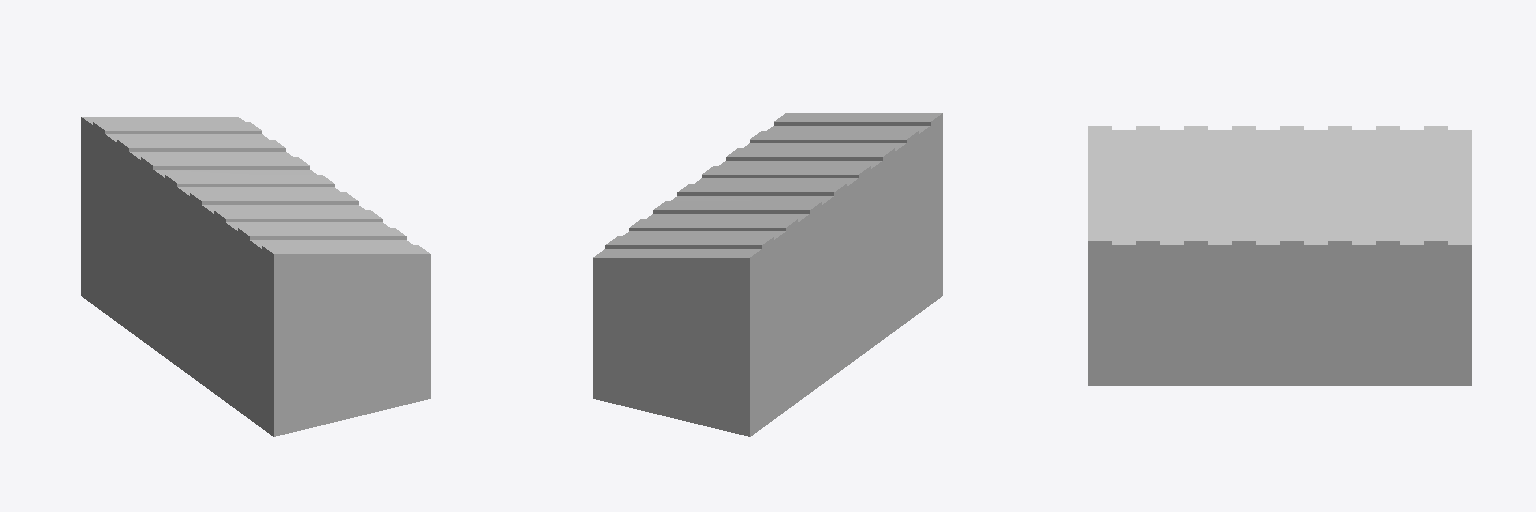
File: Big_Bin.obj
The picture shows the model from 3 angles: view 1: azimuth 30°, elevation 25°; view 2: azimuth 150°, elevation 25°; view 3: azimuth 270°, elevation 25°; orthographic projection.
Visible parts, largest first — view 1: Cube.001; view 2: Cube.001; view 3: Cube.001.
Part boxes in pixels (x1,y1,x2,y2): Cube.001: (81, 117, 430, 436); Cube.001: (593, 113, 942, 436); Cube.001: (1088, 126, 1471, 385).
Bounding box in the file's own units: 2 × 2.23 × 4.25.